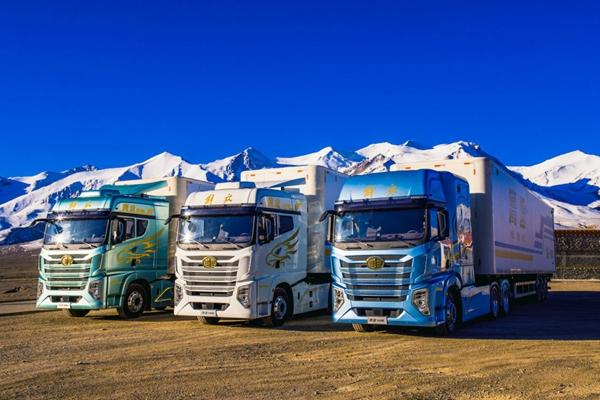卡车: (327, 163, 571, 334), (176, 168, 327, 333), (36, 175, 171, 322)
